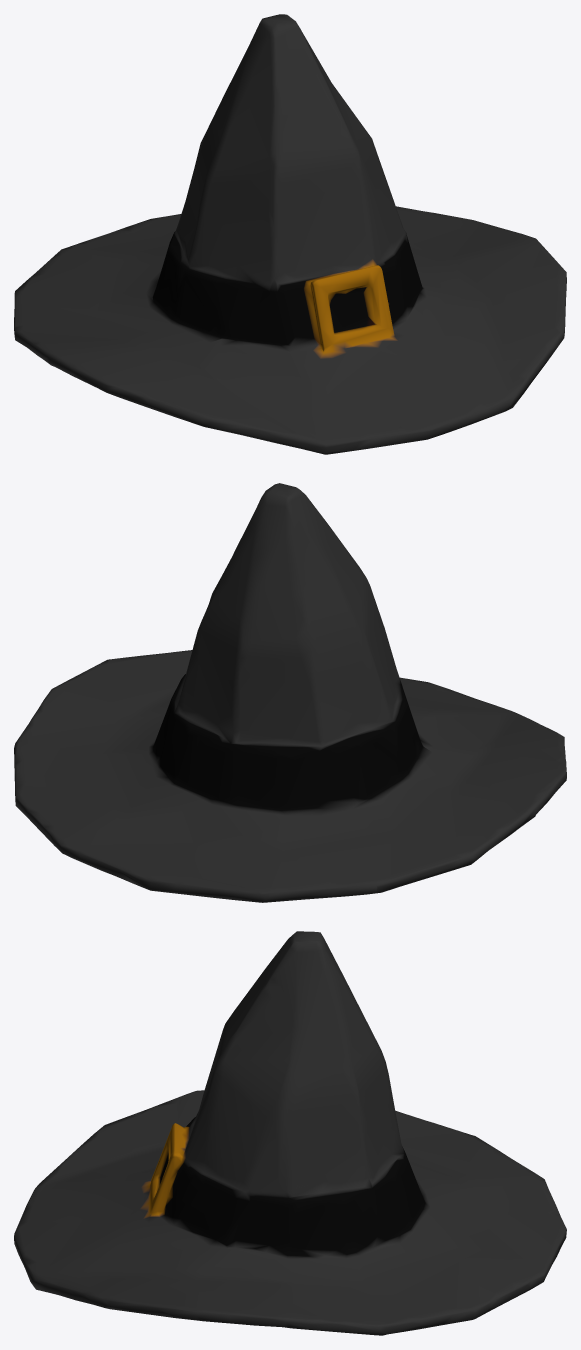
Rendered from gen3d-wizard-hat-lod0.glb.
3 views of the same model, one above another, from view 1: azimuth 30°, elevation 25°; view 2: azimuth 150°, elevation 25°; view 3: azimuth 270°, elevation 25° (orthographic).
Parts seen in each view (by area): view 1: part_0; view 2: part_0; view 3: part_0.
Boxes of the visible parts, <box> form: part_0: <box>14,14,566,454</box>; part_0: <box>14,483,566,902</box>; part_0: <box>14,931,566,1335</box>.
Bounding box in the file's own units: 1.63 × 1 × 1.63.
